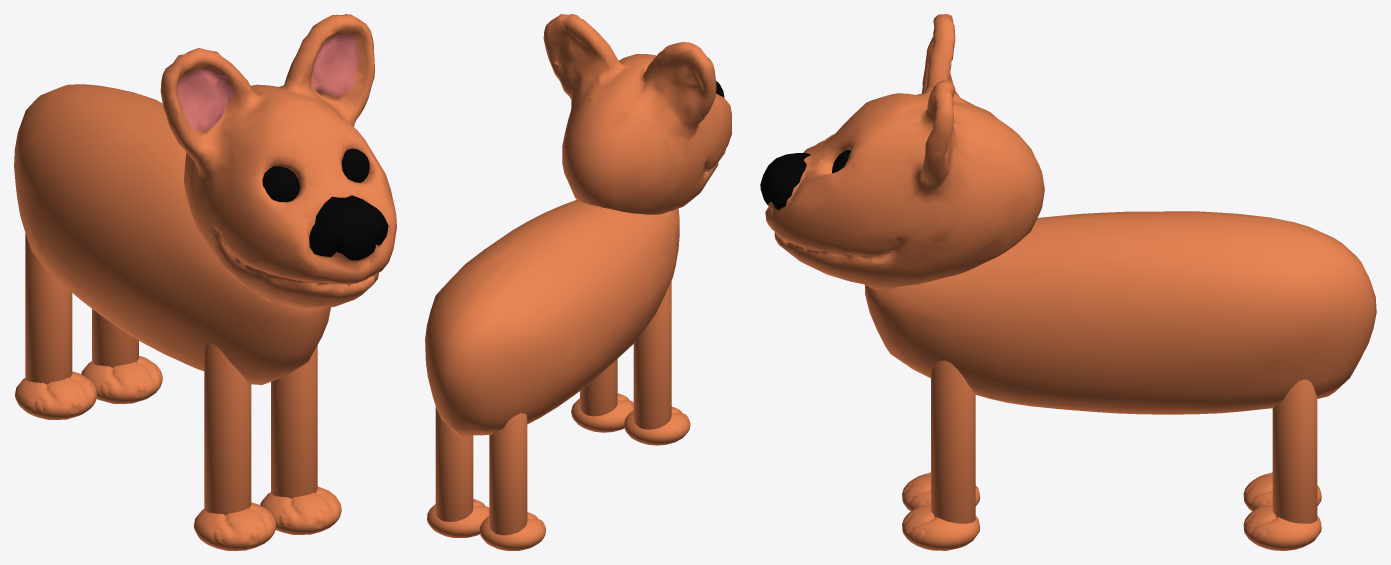
The model's file is dogao.fbx.
3 views of the same model, side by side, from view 1: azimuth 30°, elevation 25°; view 2: azimuth 150°, elevation 25°; view 3: azimuth 270°, elevation 25° (orthographic). The views are drawn at different scales.
Visible parts, largest first — view 1: Sphere, Sphere.001, Sphere.004, Cylinder.001, Cylinder.004, Cylinder.002, Cylinder.003, Sphere.002, Sphere.003; view 2: Sphere, Sphere.001, Sphere.004, Cylinder.001, Cylinder.002, Cylinder.003, Cylinder.004; view 3: Sphere, Sphere.001, Cylinder.004, Sphere.004, Cylinder.003.
Part boxes in pixels (box(x1,y1,x2,y2)): Sphere: box(14, 84, 330, 384); Sphere.001: box(160, 14, 396, 307); Sphere.004: box(15, 355, 341, 550); Cylinder.001: box(204, 343, 251, 515); Cylinder.004: box(271, 345, 317, 498); Cylinder.002: box(25, 233, 72, 384); Cylinder.003: box(92, 309, 138, 367); Sphere.002: box(262, 166, 299, 202); Sphere.003: box(341, 148, 369, 182); Sphere: box(425, 200, 679, 436); Sphere.001: box(543, 14, 731, 214); Sphere.004: box(427, 393, 690, 550); Cylinder.001: box(633, 281, 671, 429); Cylinder.002: box(489, 413, 527, 535); Cylinder.003: box(435, 406, 473, 521); Cylinder.004: box(580, 359, 617, 416); Sphere: box(865, 211, 1376, 414); Sphere.001: box(760, 14, 1044, 289); Cylinder.004: box(931, 360, 975, 523); Sphere.004: box(902, 472, 1321, 550); Cylinder.003: box(1272, 379, 1317, 523).
Bounding box in the file's own units: 263 × 605 × 704.
